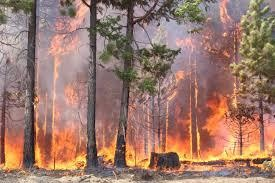fire: (47, 12, 267, 165)
